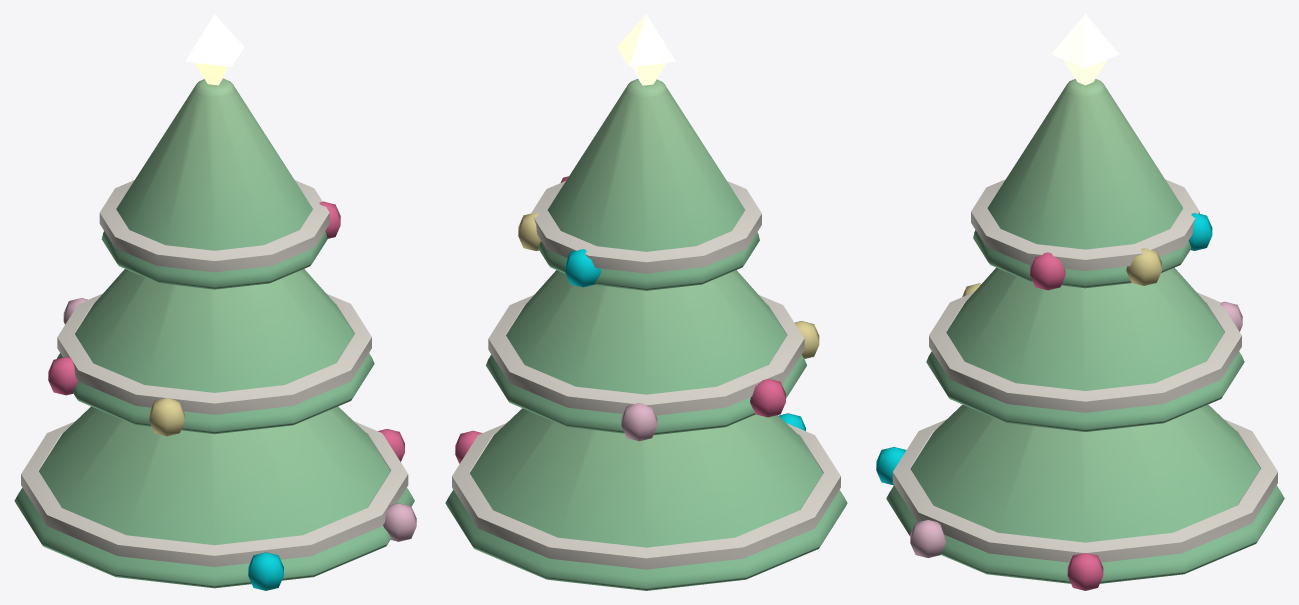
File: s2Tree.glb
3 views of the same model, side by side, from view 1: azimuth 30°, elevation 25°; view 2: azimuth 150°, elevation 25°; view 3: azimuth 270°, elevation 25° (orthographic).
Parts seen in each view (by area): view 1: Body, Glow_FFE066; view 2: Body, Glow_FFE066; view 3: Body, Glow_FFE066.
Part boxes in pixels (x1,y1,x2,y2): Body: [14, 78, 416, 590]; Glow_FFE066: [185, 14, 244, 85]; Body: [445, 79, 847, 590]; Glow_FFE066: [616, 14, 675, 85]; Body: [876, 79, 1284, 590]; Glow_FFE066: [1051, 14, 1119, 85].
Size of the model in its own units: 6.11 by 8.9 by 5.98.
